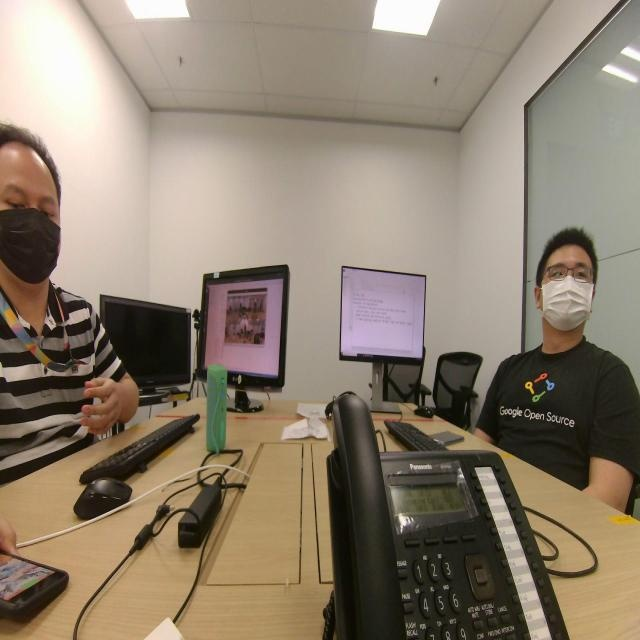obstacle: (473, 202, 621, 442), (3, 125, 92, 453)
